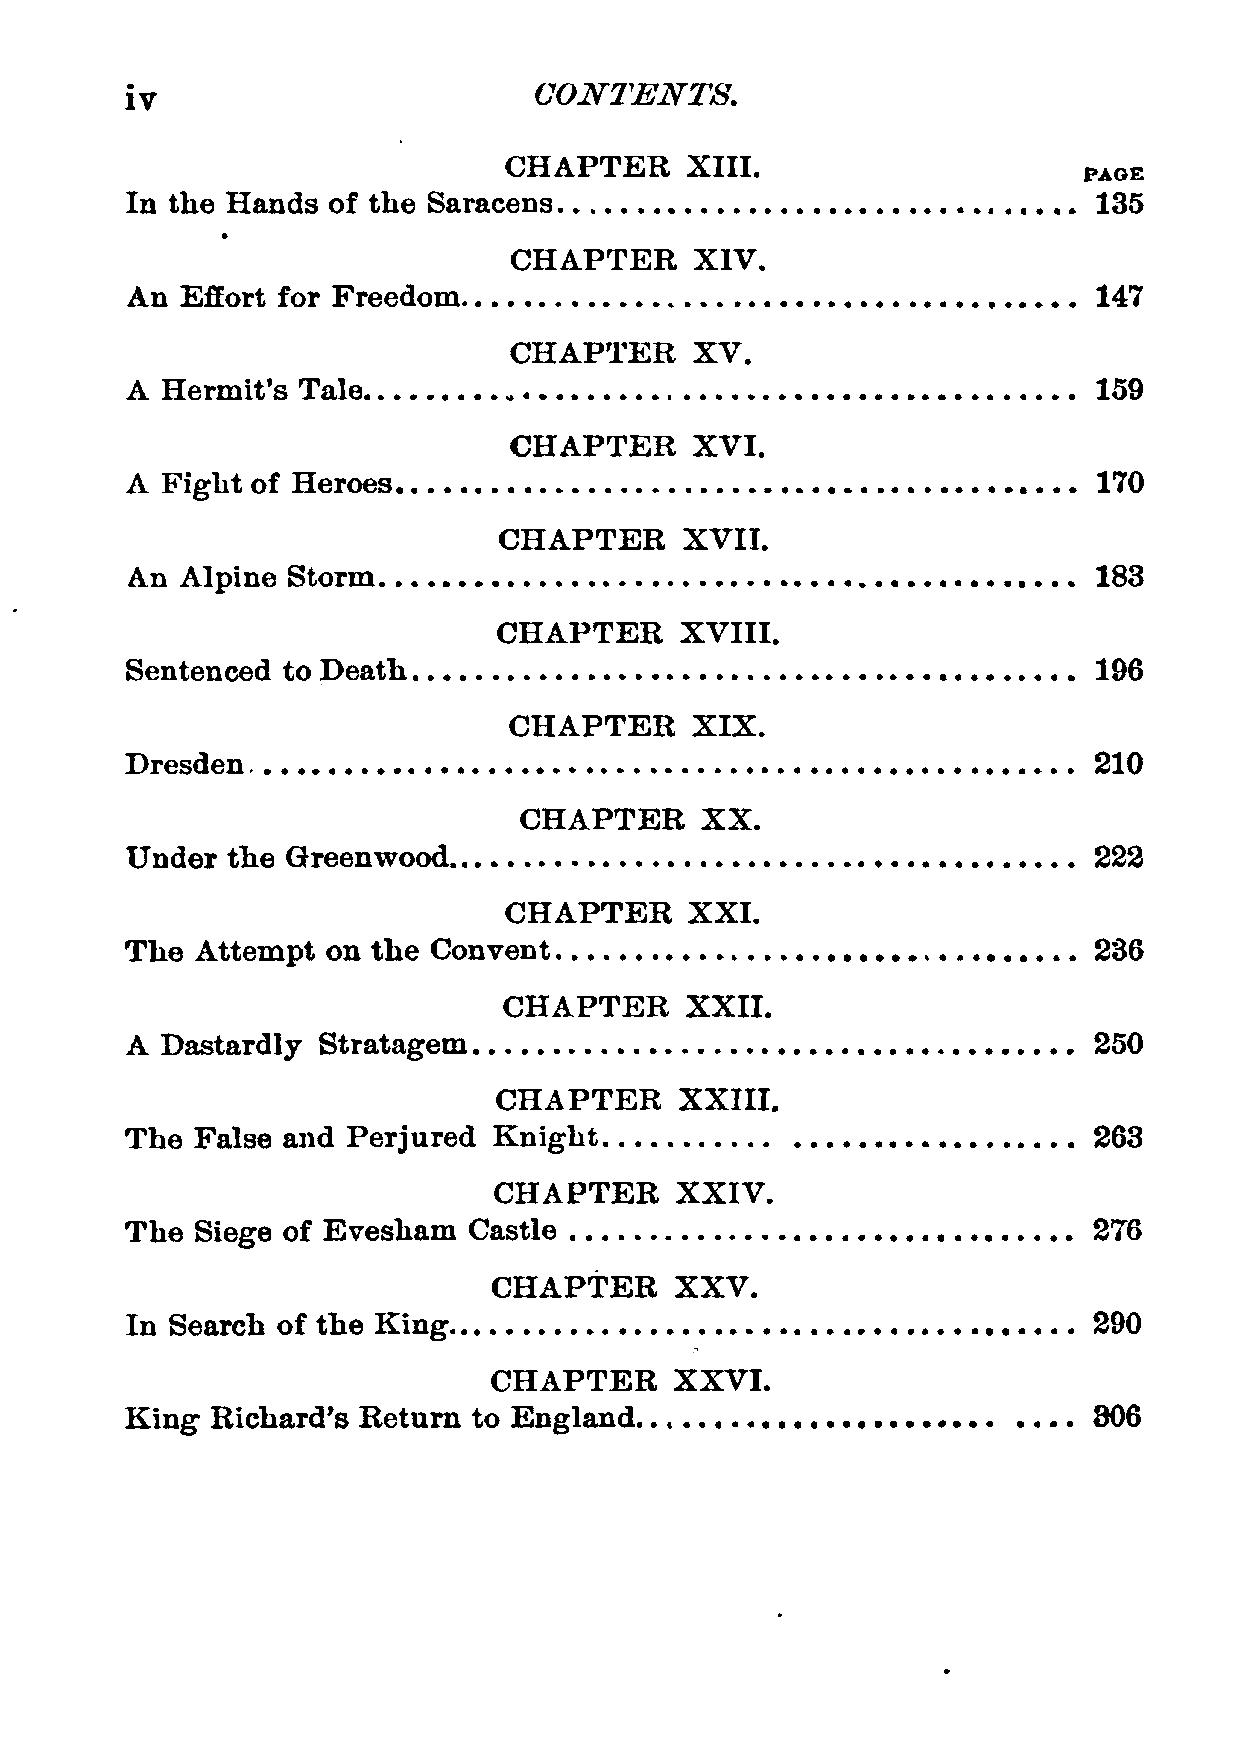TOC_chapter: (115, 933, 557, 976), (123, 1397, 645, 1433), (101, 1121, 605, 1155), (123, 274, 463, 322), (114, 185, 560, 221), (115, 1212, 560, 1244), (123, 833, 454, 875), (505, 697, 765, 749), (498, 413, 768, 463), (487, 514, 777, 560), (121, 1027, 471, 1064), (121, 361, 370, 413), (513, 790, 768, 841), (491, 1078, 786, 1121), (488, 140, 758, 187), (505, 884, 764, 933), (494, 612, 782, 655), (121, 462, 400, 505), (487, 1170, 778, 1210), (505, 985, 777, 1028), (513, 323, 754, 372), (115, 1304, 450, 1339), (484, 1359, 780, 1398), (115, 556, 382, 599), (507, 235, 770, 278), (118, 647, 413, 684), (491, 1271, 760, 1304), (118, 739, 255, 776)
TOC_pagenumber: (1088, 544, 1153, 599), (1088, 641, 1153, 687), (1084, 839, 1157, 878), (1092, 923, 1150, 972), (1086, 1394, 1154, 1435), (1092, 267, 1145, 319), (1086, 1115, 1151, 1155), (1082, 458, 1151, 495), (1088, 1024, 1153, 1062), (1091, 362, 1147, 404), (1091, 745, 1150, 781), (1092, 1209, 1145, 1249), (1082, 1308, 1147, 1337), (1091, 189, 1155, 217)
chapter: (525, 76, 743, 111)
